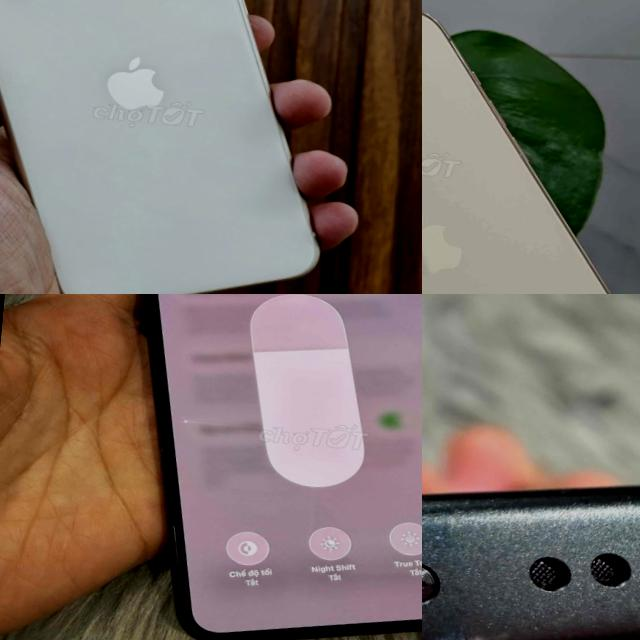scratch: (422, 621, 526, 640)
